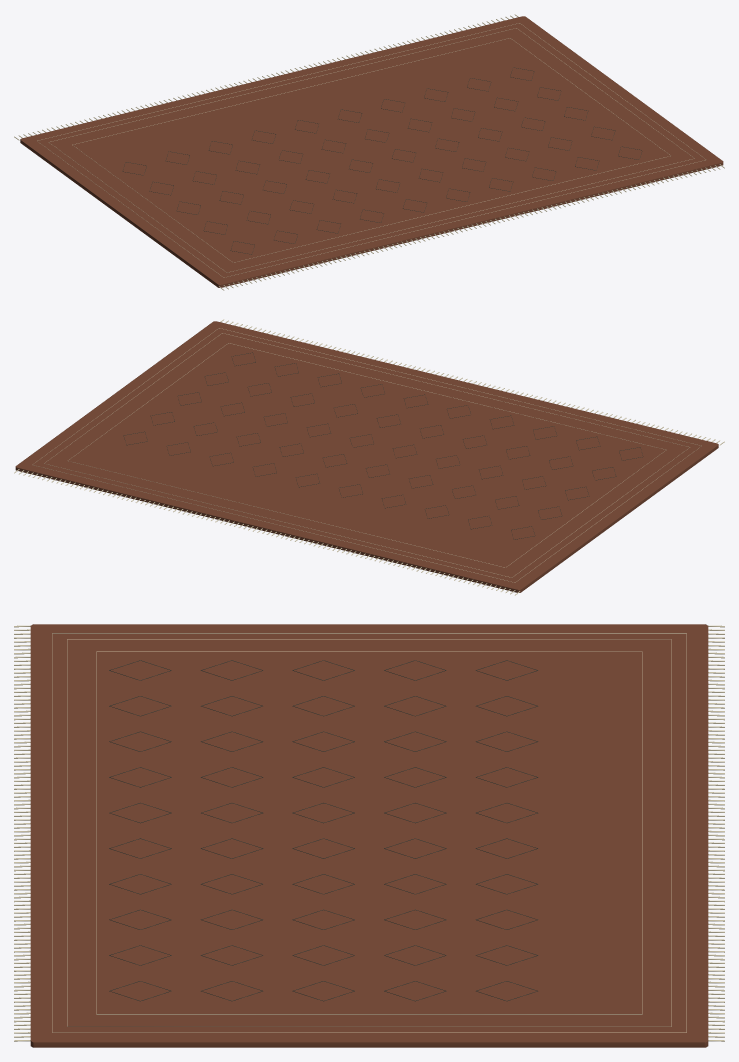
File: Rug_Large.fbx
3 renders of one model, top to bottom at view 1: azimuth 30°, elevation 25°; view 2: azimuth 150°, elevation 25°; view 3: azimuth 270°, elevation 25°, orthographic. The views are drawn at different scales.
Parts seen in each view (by area): view 1: Woven rug.002, Rug border.006, Rug border.007, Rug border.008; view 2: Woven rug.002, Rug border.006, Rug border.007, Rug border.008; view 3: Woven rug.002, Rug border.006, Rug border.007, Rug border.008.
Part boxes in pixels (x1,y1,x2,y2): Woven rug.002: (20, 16, 723, 287); Rug border.006: (37, 23, 706, 277); Rug border.007: (49, 28, 694, 272); Rug border.008: (72, 38, 670, 262); Woven rug.002: (15, 321, 718, 592); Rug border.006: (32, 328, 701, 582); Rug border.007: (44, 333, 689, 577); Rug border.008: (68, 343, 666, 567); Woven rug.002: (30, 624, 708, 1047); Rug border.006: (52, 633, 686, 1032); Rug border.007: (67, 639, 671, 1026); Rug border.008: (96, 651, 642, 1014).
Size of the model in its own units: 2.7 by 0.0172 by 1.94.
